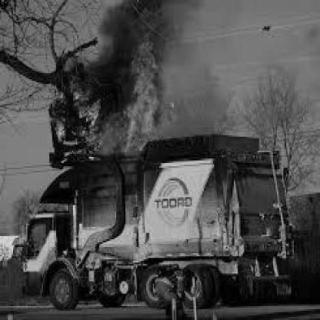Fire: (120, 35, 156, 151), (56, 78, 96, 146)
Smoke: (101, 11, 130, 106)
